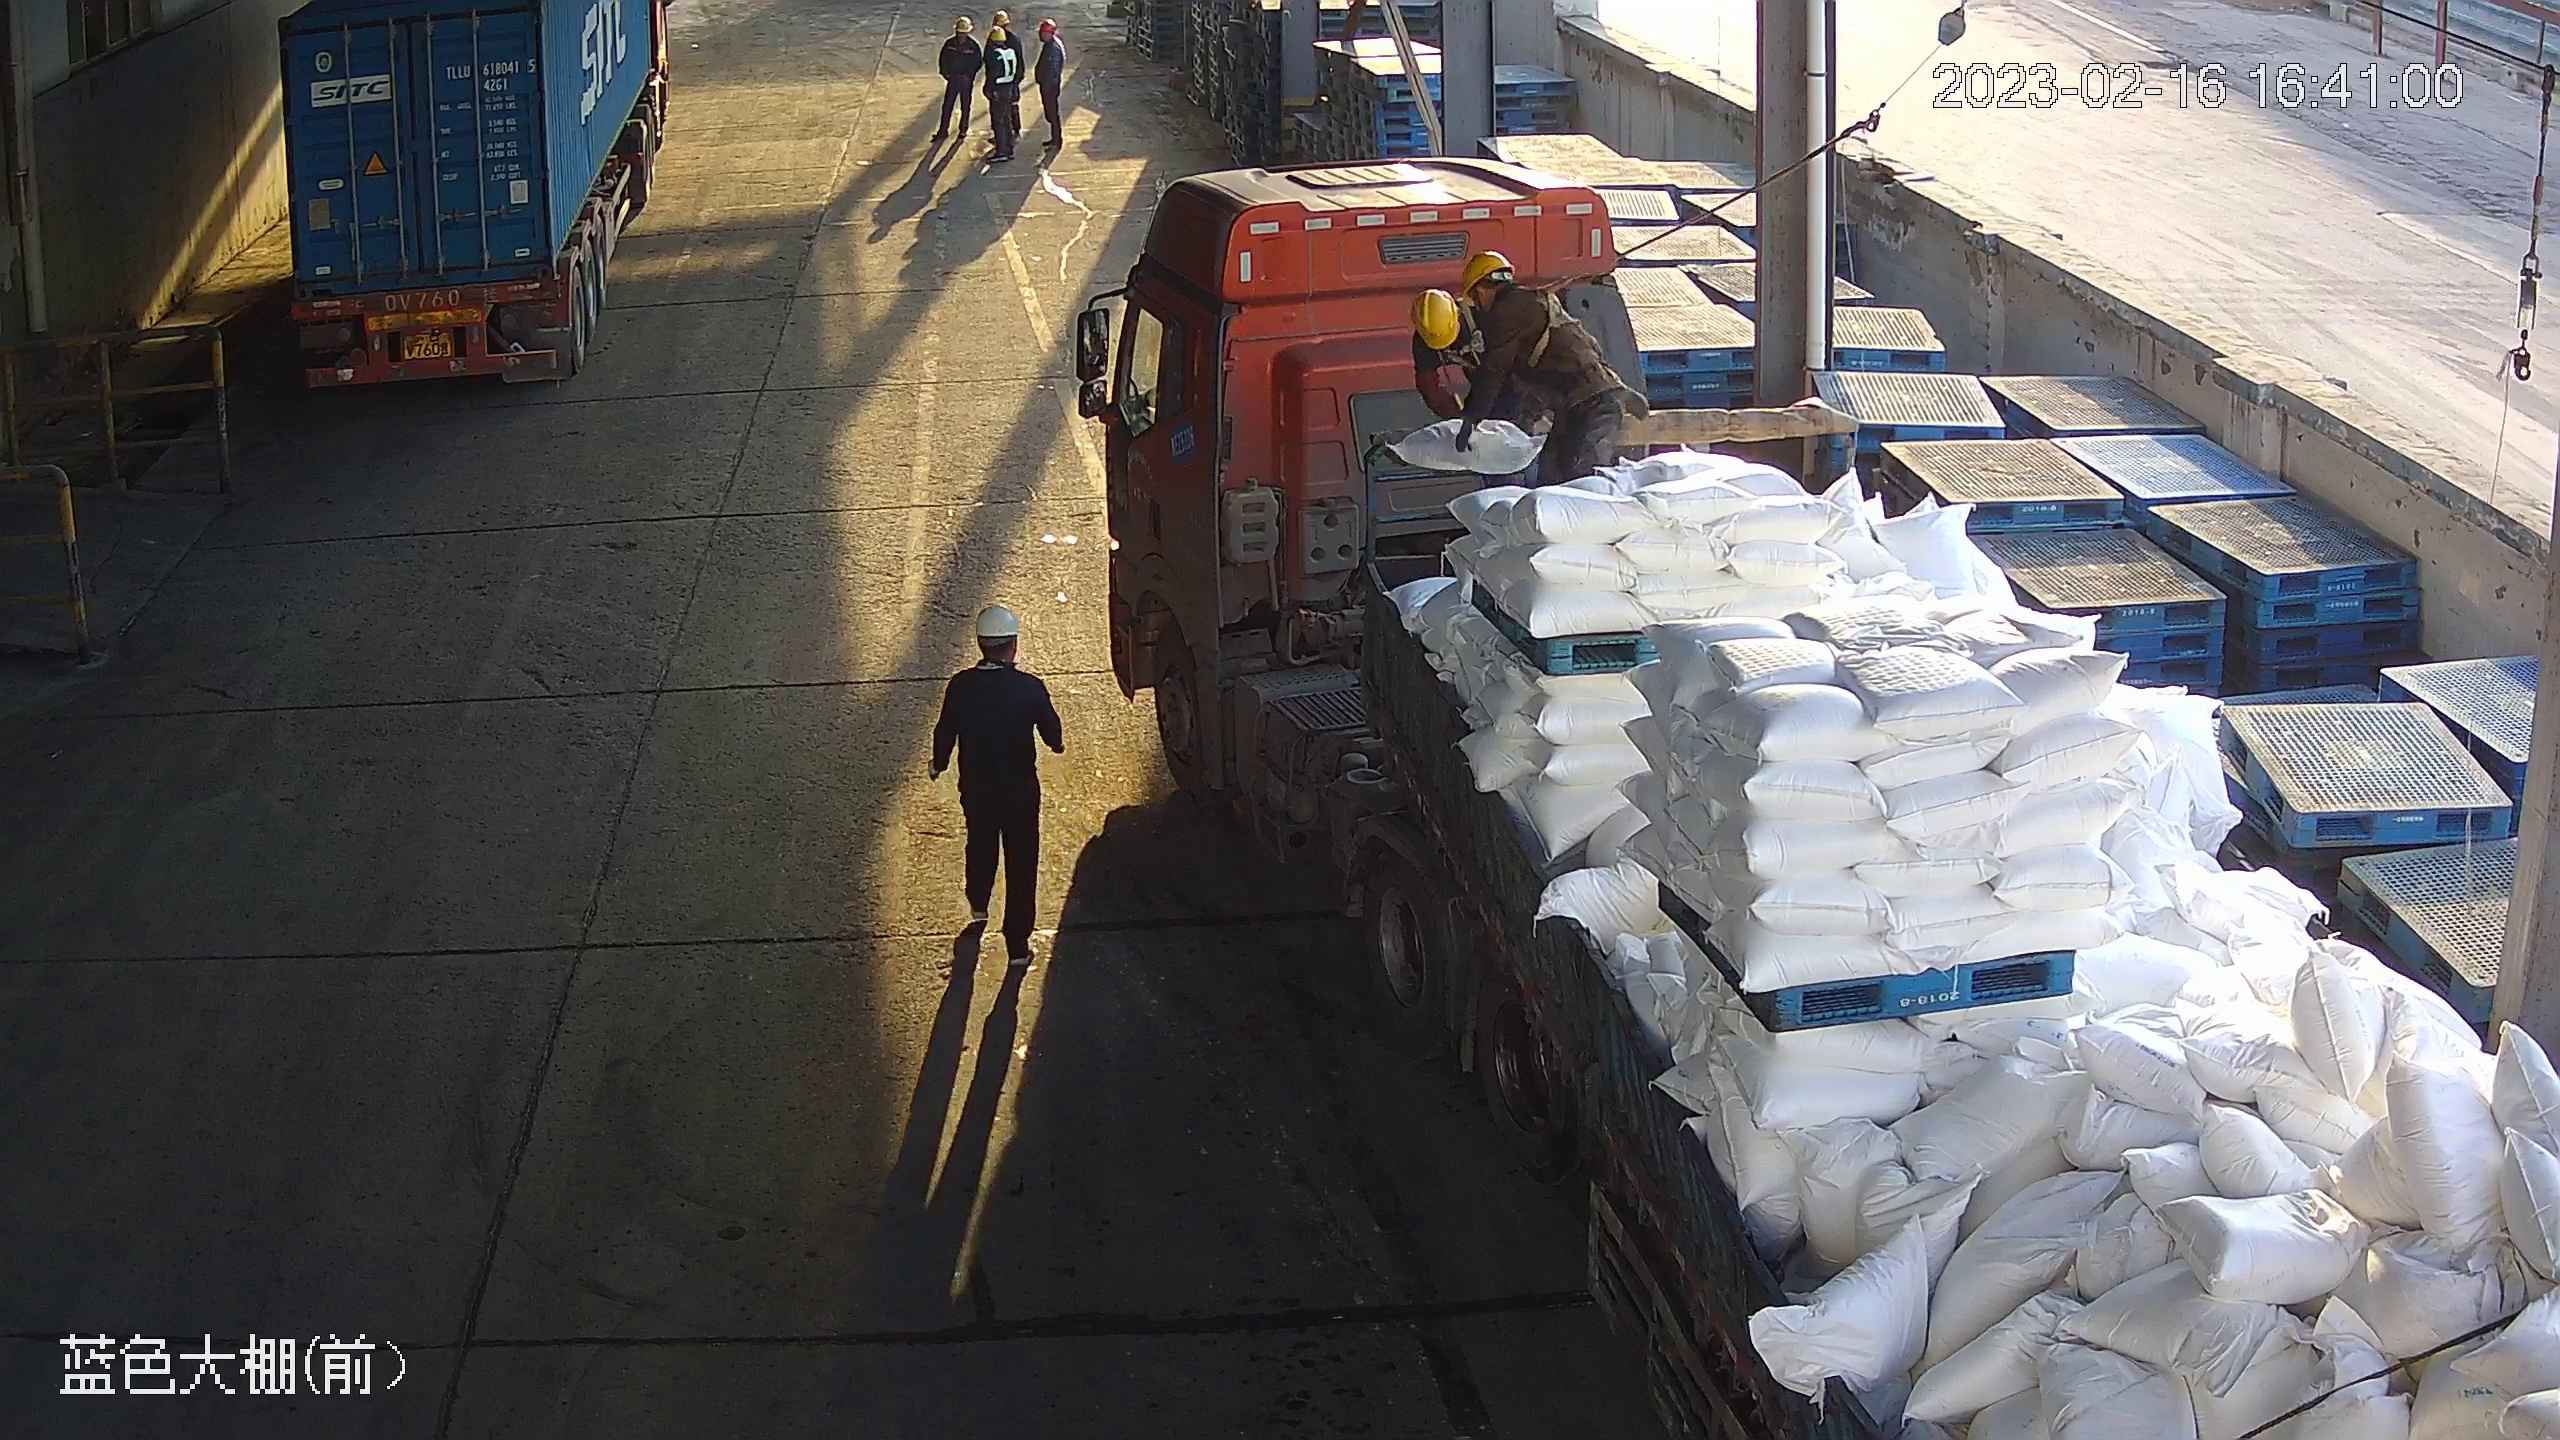belt: (1519, 277, 1604, 367), (1452, 295, 1487, 370)
head: (1410, 288, 1491, 374), (934, 18, 981, 66), (982, 26, 1020, 76), (1033, 20, 1067, 62)
helmet: (1413, 289, 1461, 350), (1462, 252, 1515, 293), (974, 607, 1021, 641), (954, 15, 972, 34), (988, 26, 1006, 43), (1039, 19, 1058, 33), (993, 8, 1009, 25)
people: (927, 603, 1071, 961), (1452, 250, 1623, 488), (928, 15, 981, 141), (982, 23, 1022, 165), (1033, 20, 1066, 150)
truck: (1067, 157, 2560, 1440), (274, 1, 670, 393)
